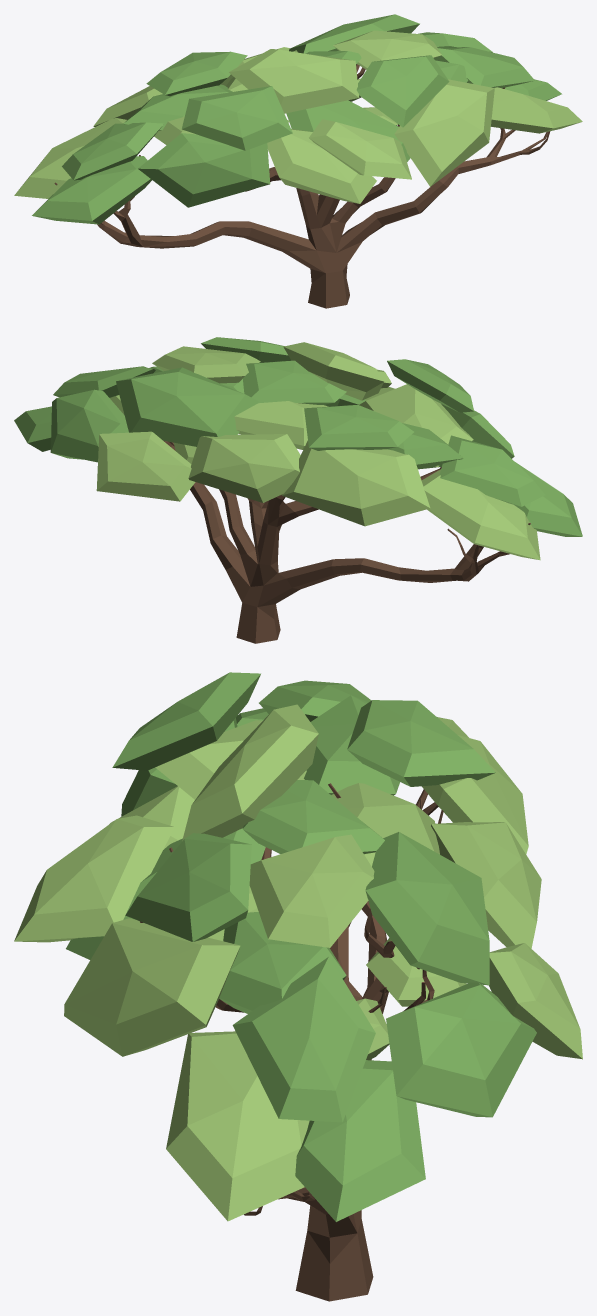
File: tree1.fbx
3 renders of one model, top to bottom at view 1: azimuth 30°, elevation 25°; view 2: azimuth 150°, elevation 25°; view 3: azimuth 270°, elevation 25°, orthographic. The views are drawn at different scales.
Visible parts, largest first — view 1: tree1; view 2: tree1; view 3: tree1.
Boxes of the visible parts, x1,y1,x2,y2 form: tree1: (14, 14, 582, 308); tree1: (14, 337, 582, 643); tree1: (14, 672, 582, 1301).
Bounding box in the file's own units: 7.72 × 3.75 × 3.85.
